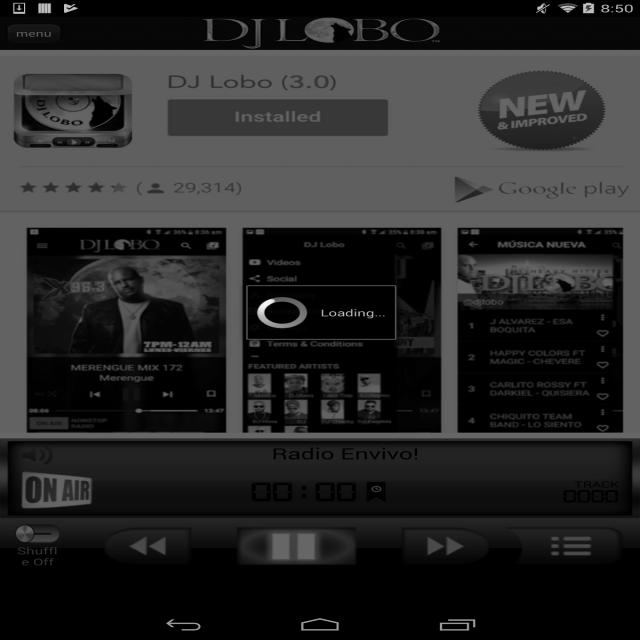Button: (94, 527, 192, 565), (402, 527, 499, 565), (5, 24, 62, 43), (15, 524, 60, 544), (22, 445, 54, 465)
ImageView: (0, 17, 640, 608), (0, 50, 640, 438), (363, 478, 389, 506)
SeekBar: (51, 408, 589, 429)
TextView: (61, 443, 640, 464), (200, 18, 440, 49), (251, 478, 357, 506), (15, 544, 60, 568), (563, 487, 619, 505), (574, 478, 619, 491), (5, 412, 40, 424), (600, 412, 634, 424)
